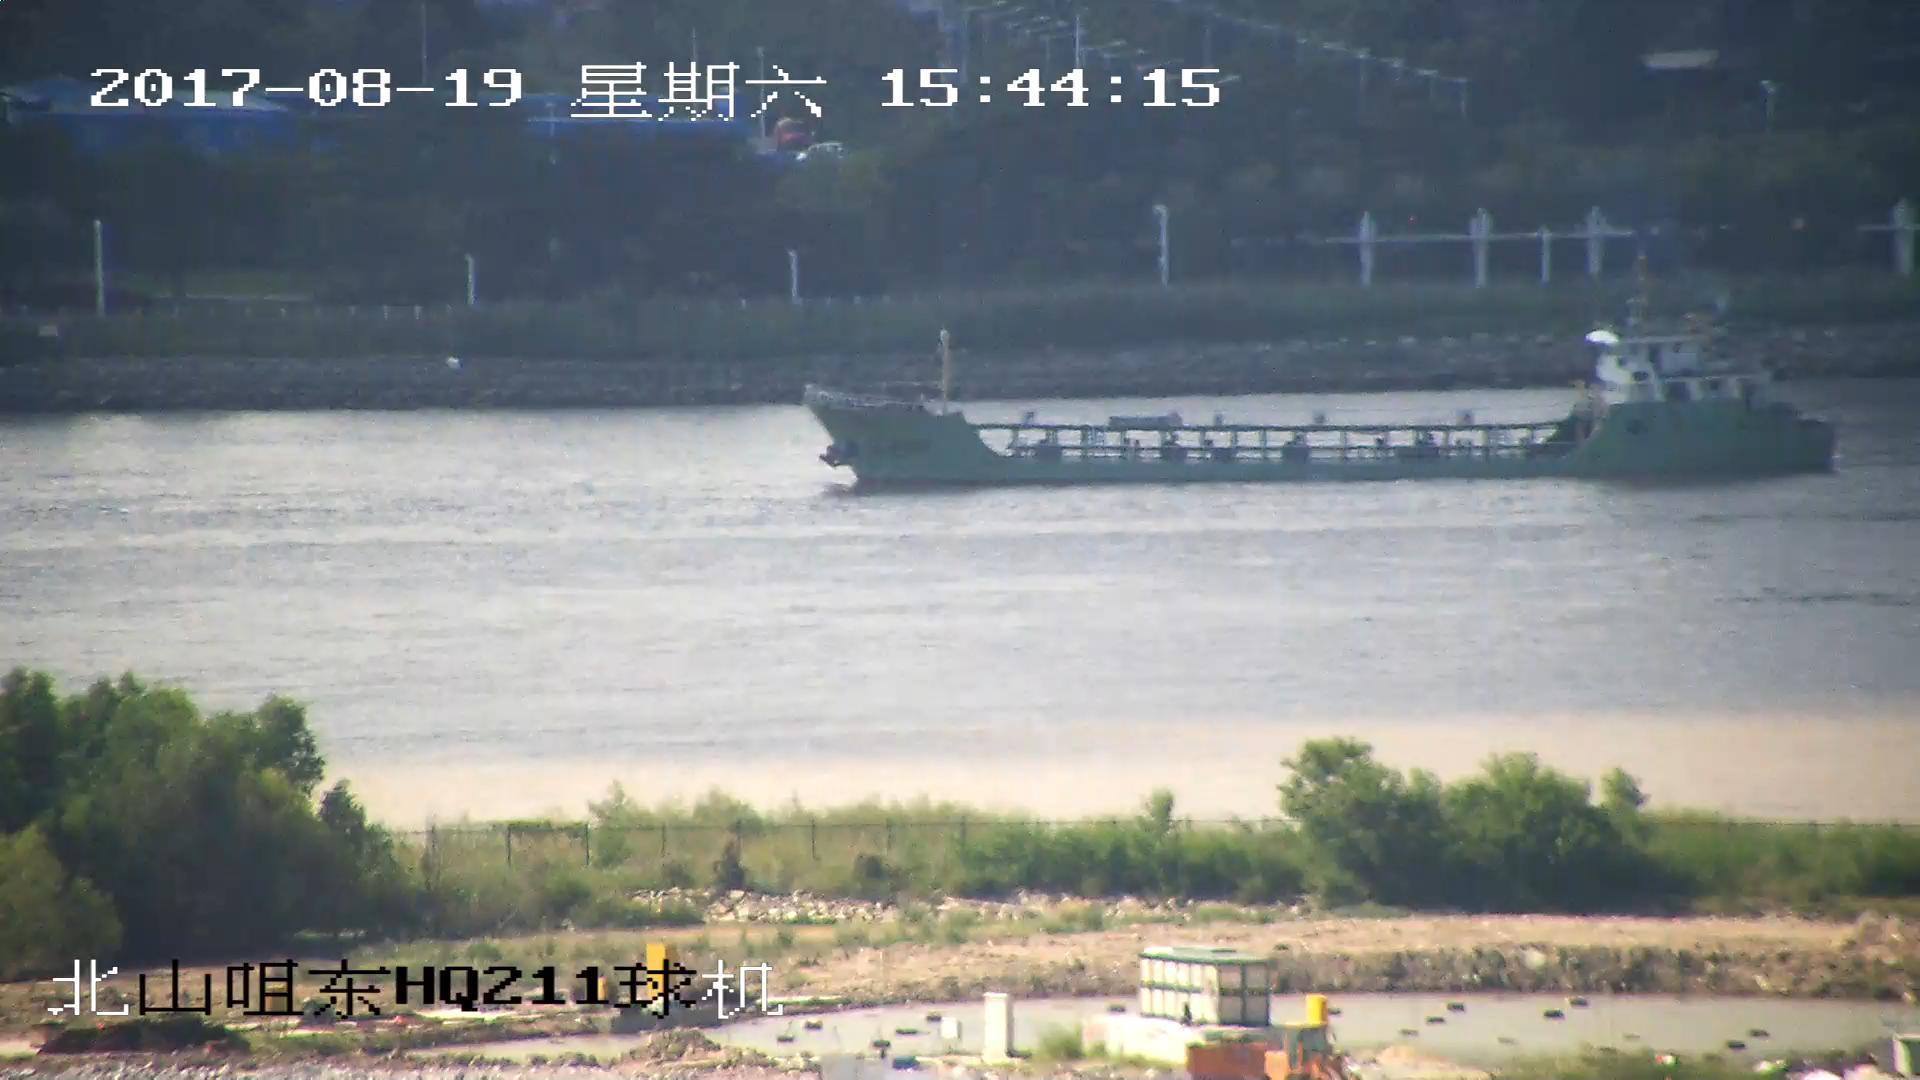Ship: (803, 287, 1840, 487)
